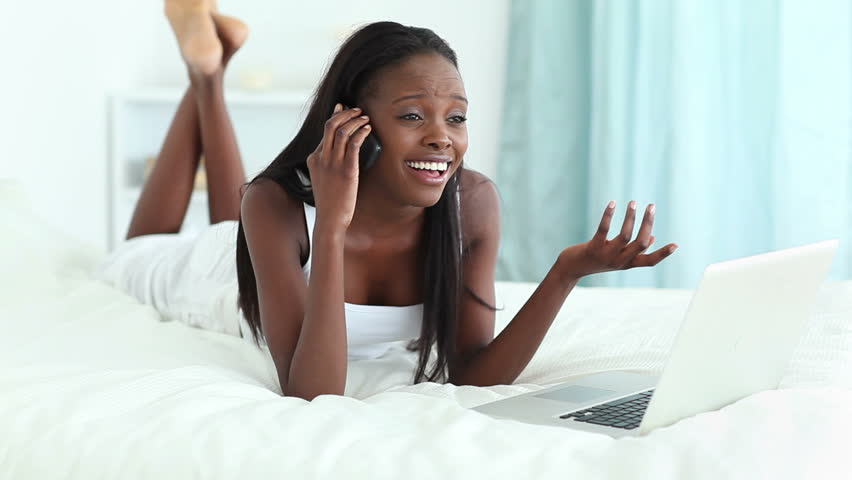phone: (313, 105, 389, 183)
talk: (306, 93, 470, 221)
